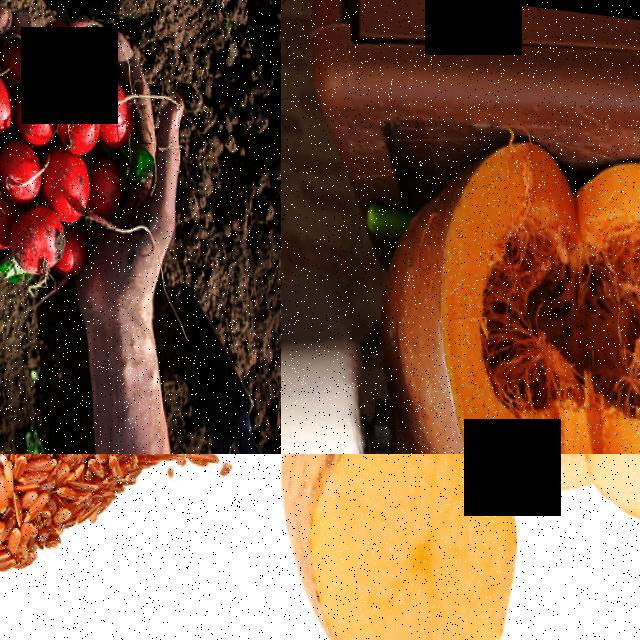potato: (281, 454, 448, 640)
pumpkin: (393, 126, 640, 454)
radishes: (0, 5, 132, 274)
red rice: (0, 454, 234, 593)
